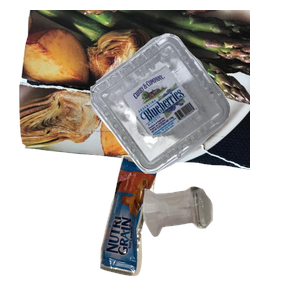glass: (141, 184, 300, 300)
paper: (16, 10, 256, 172)
plastic: (88, 31, 300, 198)
trash: (97, 152, 248, 300)
